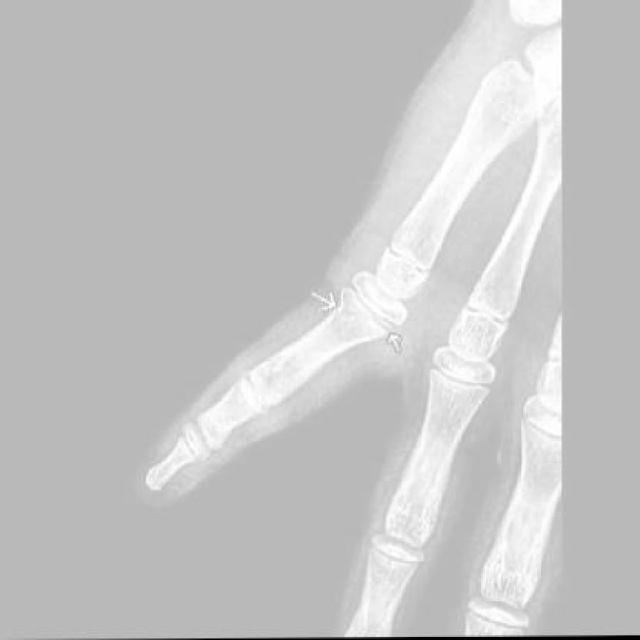Fracture: (331, 286, 397, 350)
